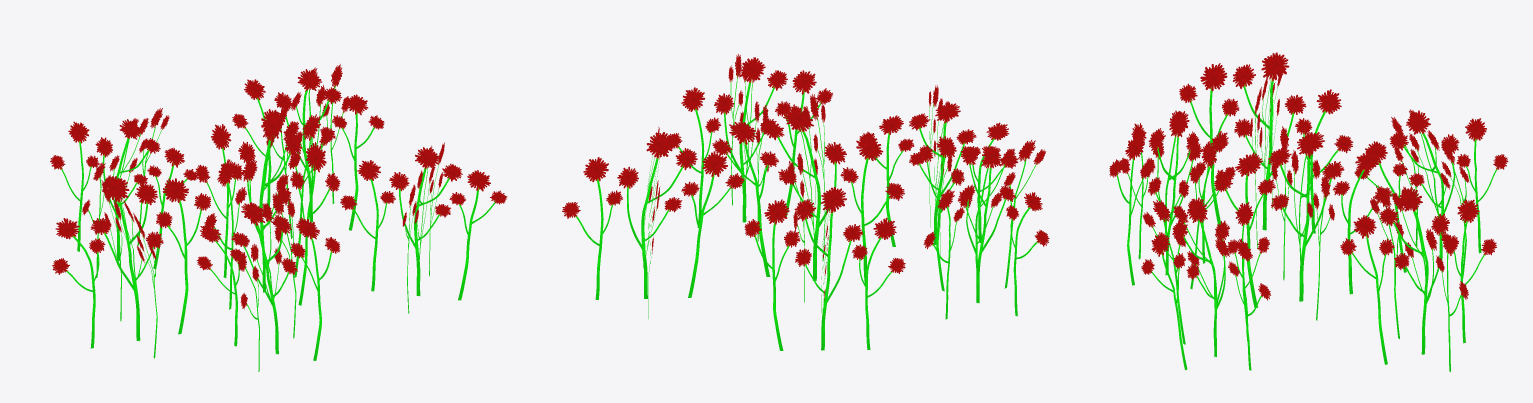
The model's file is Flowers01.fbx.
3 views of the same model, side by side, from view 1: azimuth 30°, elevation 25°; view 2: azimuth 150°, elevation 25°; view 3: azimuth 270°, elevation 25° (orthographic).
Parts seen in each view (by area): view 1: Flowers01_LOD0; view 2: Flowers01_LOD0; view 3: Flowers01_LOD0.
Boxes of the visible parts, x1,y1,x2,y2 form: Flowers01_LOD0: (50, 64, 507, 371); Flowers01_LOD0: (562, 54, 1049, 350); Flowers01_LOD0: (1109, 52, 1508, 371).
Size of what is drawn, in the model's own units: 145 by 64.52 by 124.
